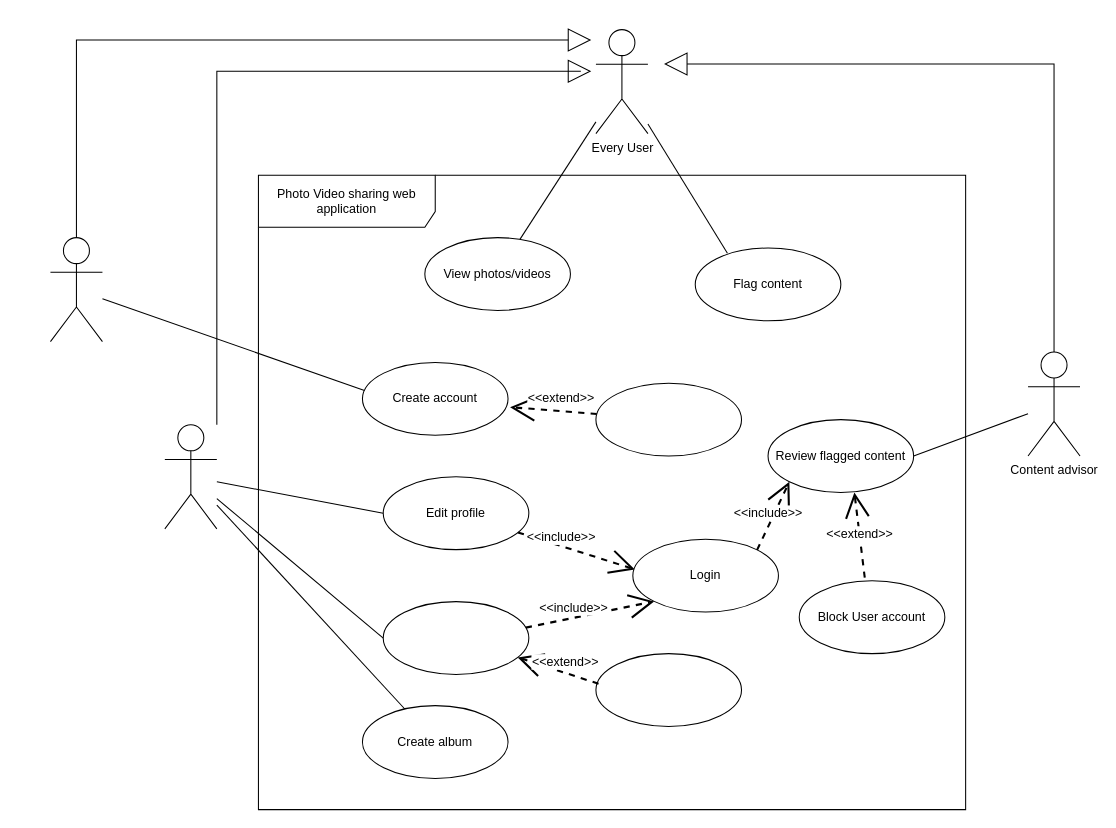
The diagram is 1116 pixels wide and 828 high, and some of its shapes have lost their labels. Each missing label, with the box of its shape:
Activate Account via email: (595, 382, 742, 456)
Post video/photo: (382, 601, 529, 674)
Post video/photo in album: (595, 653, 742, 726)
Registered user: (164, 424, 217, 529)
User with no account: (49, 237, 102, 342)
